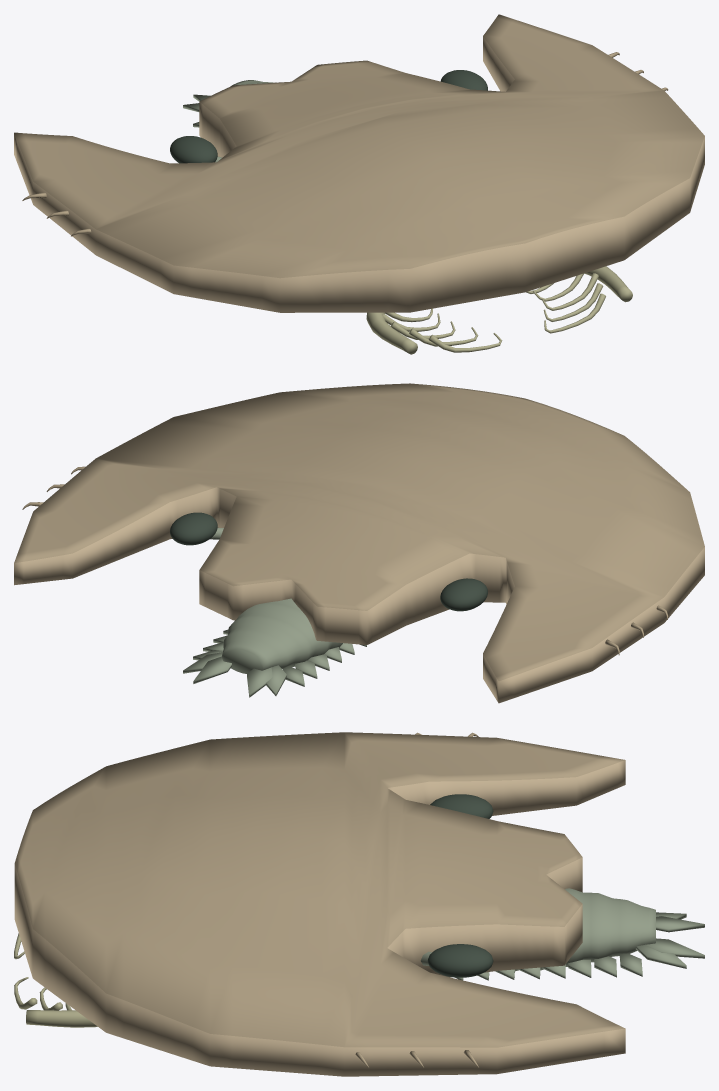
The model's file is cambroraster.glb.
3 views of the same model, one above another, from view 1: azimuth 30°, elevation 25°; view 2: azimuth 150°, elevation 25°; view 3: azimuth 270°, elevation 25° (orthographic). The views are drawn at different scales.
Visible parts, largest first — view 1: domed-horseshoe-shield-with-deep-ocular-notches, paired-underhead-rake-appendages-simplified-inner-spines, upward-elliptical-eyes-in-rear-notches; view 2: domed-horseshoe-shield-with-deep-ocular-notches, short-stout-soft-body-beneath-large-shield, short-lateral-swimming-flaps-and-four-tail-blades, upward-elliptical-eyes-in-rear-notches; view 3: domed-horseshoe-shield-with-deep-ocular-notches, short-stout-soft-body-beneath-large-shield, short-lateral-swimming-flaps-and-four-tail-blades, upward-elliptical-eyes-in-rear-notches, paired-underhead-rake-appendages-simplified-inner-spines.
Boxes of the visible parts, x1,y1,x2,y2 form: domed-horseshoe-shield-with-deep-ocular-notches: [14, 14, 704, 312]; paired-underhead-rake-appendages-simplified-inner-spines: [22, 52, 668, 354]; upward-elliptical-eyes-in-rear-notches: [170, 70, 487, 163]; domed-horseshoe-shield-with-deep-ocular-notches: [14, 383, 704, 703]; short-stout-soft-body-beneath-large-shield: [222, 598, 342, 673]; short-lateral-swimming-flaps-and-four-tail-blades: [183, 629, 366, 697]; upward-elliptical-eyes-in-rear-notches: [170, 512, 487, 611]; domed-horseshoe-shield-with-deep-ocular-notches: [14, 732, 625, 1076]; short-stout-soft-body-beneath-large-shield: [515, 888, 655, 971]; short-lateral-swimming-flaps-and-four-tail-blades: [455, 912, 704, 980]; upward-elliptical-eyes-in-rear-notches: [420, 794, 493, 977]; paired-underhead-rake-appendages-simplified-inner-spines: [14, 732, 478, 1067].
Bounding box in the file's own units: 0.1281 × 0.0249 × 0.1131.
